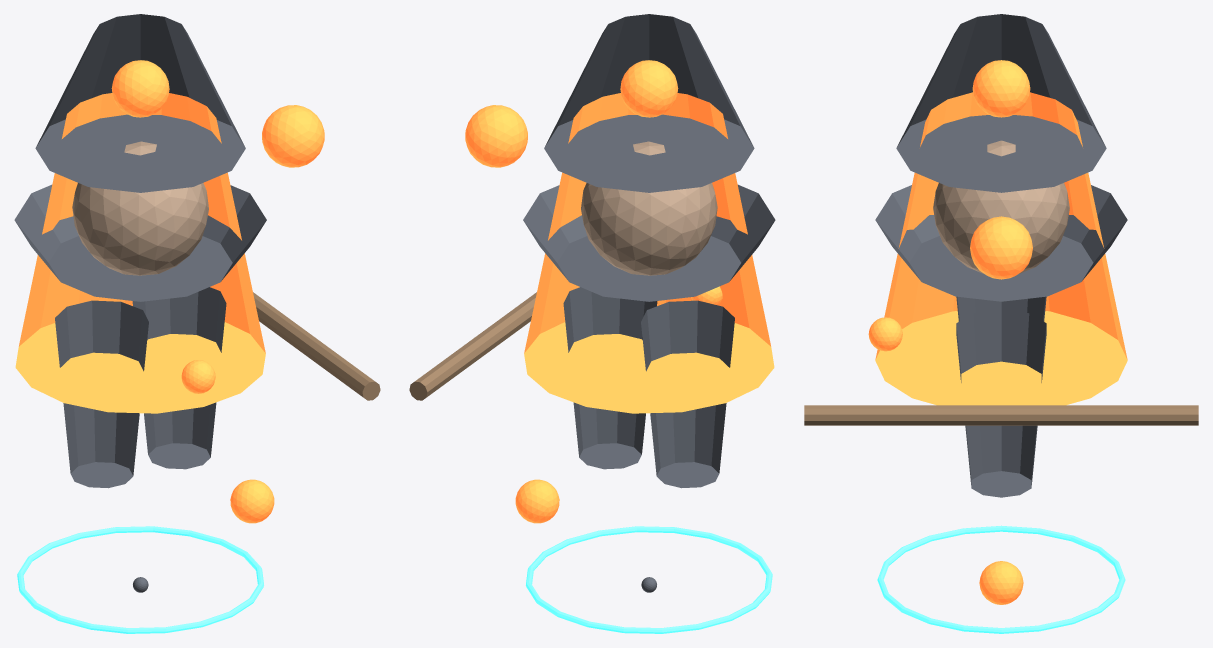
The model's file is ember-mage-v2.glb.
3 views of the same model, side by side, from view 1: azimuth 30°, elevation 25°; view 2: azimuth 150°, elevation 25°; view 3: azimuth 270°, elevation 25° (orthographic).
Visible parts, largest first — view 1: Robe, Hood, Mantle, Head, Leg_-1, Leg_1, SelectionRing, Staff_1, Staff_0, EmberOrb, Staff_2, Rune; view 2: Robe, Hood, Mantle, Head, Leg_-1, Leg_1, SelectionRing, Staff_1, Staff_0, EmberOrb, Staff_2; view 3: Robe, Hood, Mantle, Leg_1, Staff_0, Head, SelectionRing, Staff_1, EmberOrb, Staff_2, Leg_-1, Rune.
Part boxes in pixels (box(x1,y1,x2,y2)): Robe: box(15, 93, 265, 413); Hood: box(35, 14, 245, 192); Mantle: box(14, 184, 266, 301); Head: box(72, 141, 208, 275); Leg_-1: box(55, 300, 148, 488); Leg_1: box(132, 287, 226, 469); SelectionRing: box(17, 526, 263, 633); Staff_1: box(262, 105, 324, 167); Staff_0: box(253, 292, 380, 400); EmberOrb: box(111, 60, 169, 117); Staff_2: box(230, 479, 274, 523); Rune: box(181, 360, 215, 393); Robe: box(524, 93, 774, 413); Hood: box(544, 14, 754, 192); Mantle: box(523, 184, 775, 301); Head: box(581, 141, 717, 275); Leg_-1: box(641, 300, 734, 488); Leg_1: box(563, 287, 657, 469); SelectionRing: box(526, 526, 772, 633); Staff_1: box(465, 105, 527, 167); Staff_0: box(409, 292, 536, 400); EmberOrb: box(620, 60, 678, 117); Staff_2: box(515, 479, 559, 523); Robe: box(875, 92, 1127, 405); Hood: box(896, 14, 1106, 192); Mantle: box(875, 185, 1127, 301); Leg_1: box(956, 309, 1046, 497); Staff_0: box(804, 405, 1198, 425); Head: box(933, 140, 1069, 273); SelectionRing: box(877, 525, 1125, 633); Staff_1: box(970, 216, 1032, 279); EmberOrb: box(972, 60, 1030, 117); Staff_2: box(979, 561, 1023, 604); Leg_-1: box(956, 296, 1046, 321); Rune: box(868, 317, 902, 351).
Size of the model in its own units: 1.27 by 2.34 by 1.5.
